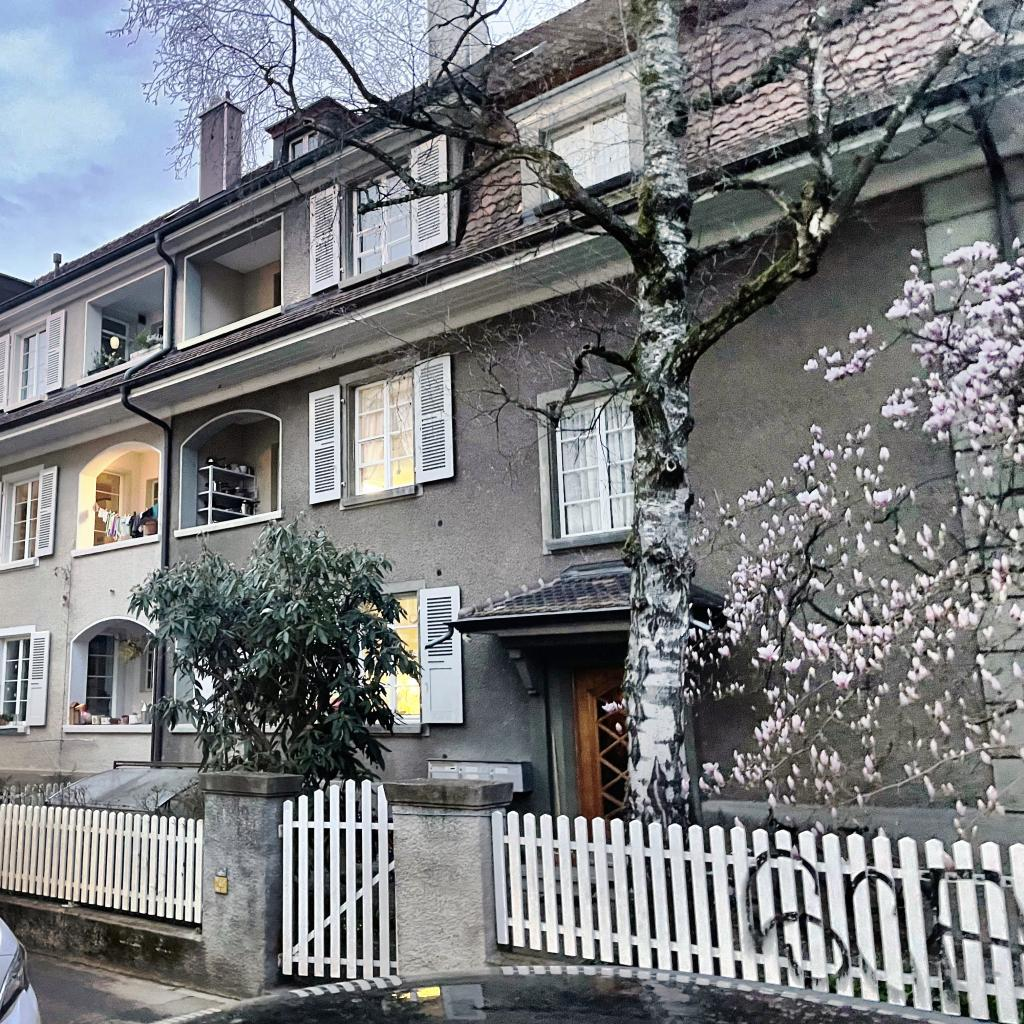car: (139, 964, 996, 1024), (0, 917, 42, 1024)
facade: (0, 73, 1024, 833)
fence: (0, 776, 1024, 1024)
street: (29, 953, 226, 1024)
vegetation: (105, 0, 1024, 839), (0, 507, 428, 819)
window: (548, 382, 636, 538), (324, 588, 421, 720), (540, 96, 631, 204), (350, 370, 416, 498), (345, 157, 413, 281), (0, 471, 40, 564), (9, 319, 47, 407), (0, 632, 31, 726), (86, 635, 114, 716), (95, 471, 122, 546), (287, 126, 324, 162), (101, 315, 127, 359)
